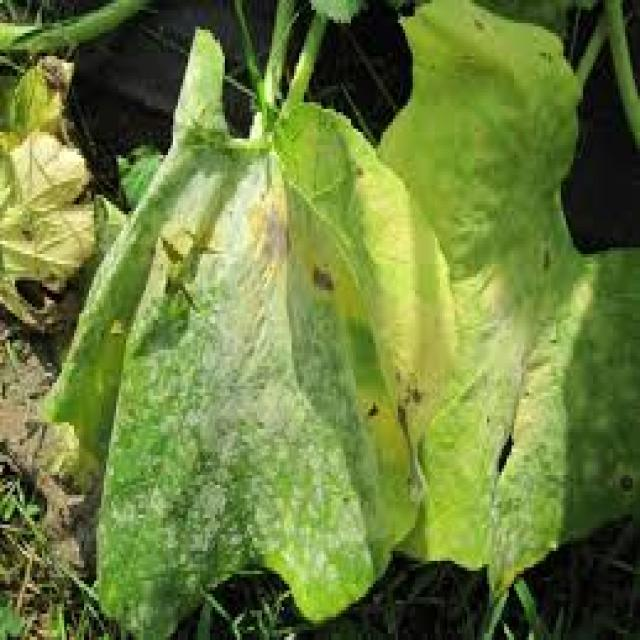powdery-mildew: (191, 299, 358, 552)
